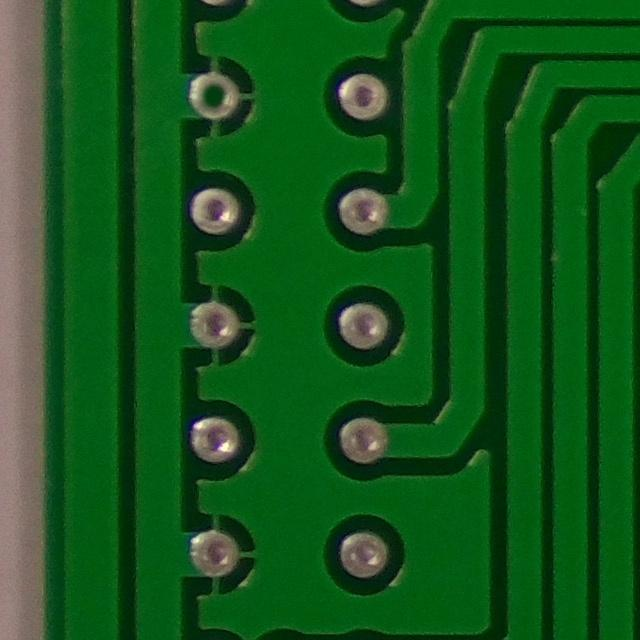missing_hole: (177, 64, 250, 133)
